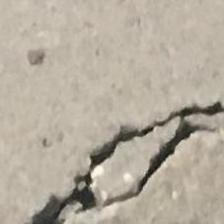Crack: (5, 84, 224, 224)
